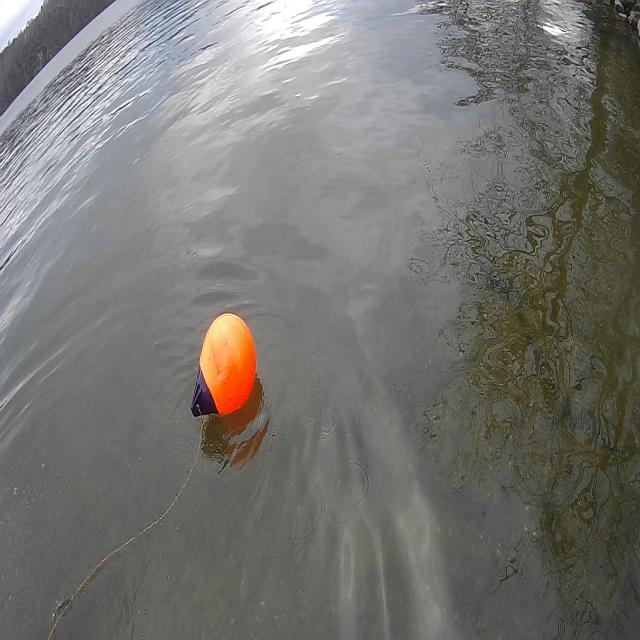Buoy: (194, 309, 259, 419)
